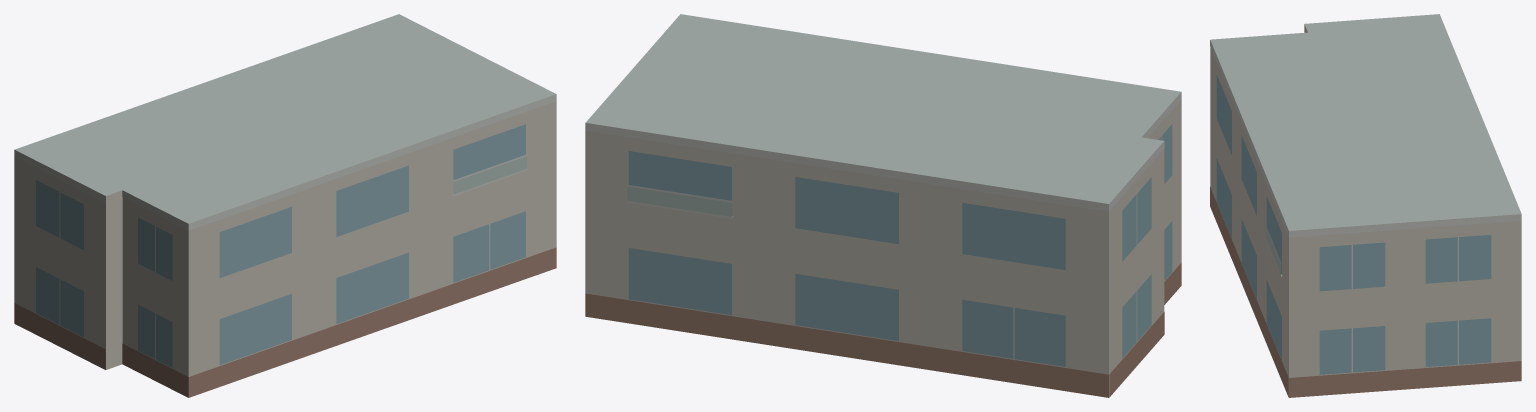
The model's file is survey-upis-32913978.glb.
3 renders of one model, left to right at view 1: azimuth 30°, elevation 25°; view 2: azimuth 150°, elevation 25°; view 3: azimuth 270°, elevation 25°, orthographic. The views are drawn at different scales.
Visible parts, largest first — view 1: survey-upis-32913978.tmp; view 2: survey-upis-32913978.tmp; view 3: survey-upis-32913978.tmp.
Part boxes in pixels (x1,y1,x2,y2): survey-upis-32913978.tmp: [14, 14, 556, 397]; survey-upis-32913978.tmp: [585, 14, 1181, 397]; survey-upis-32913978.tmp: [1210, 14, 1521, 397].
Size of the model in its own units: 17.01 by 6.1 by 10.33.
